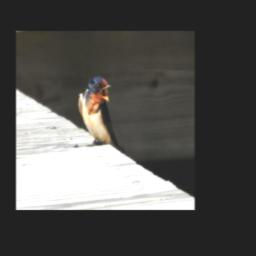Swallow: (78, 73, 117, 146)
